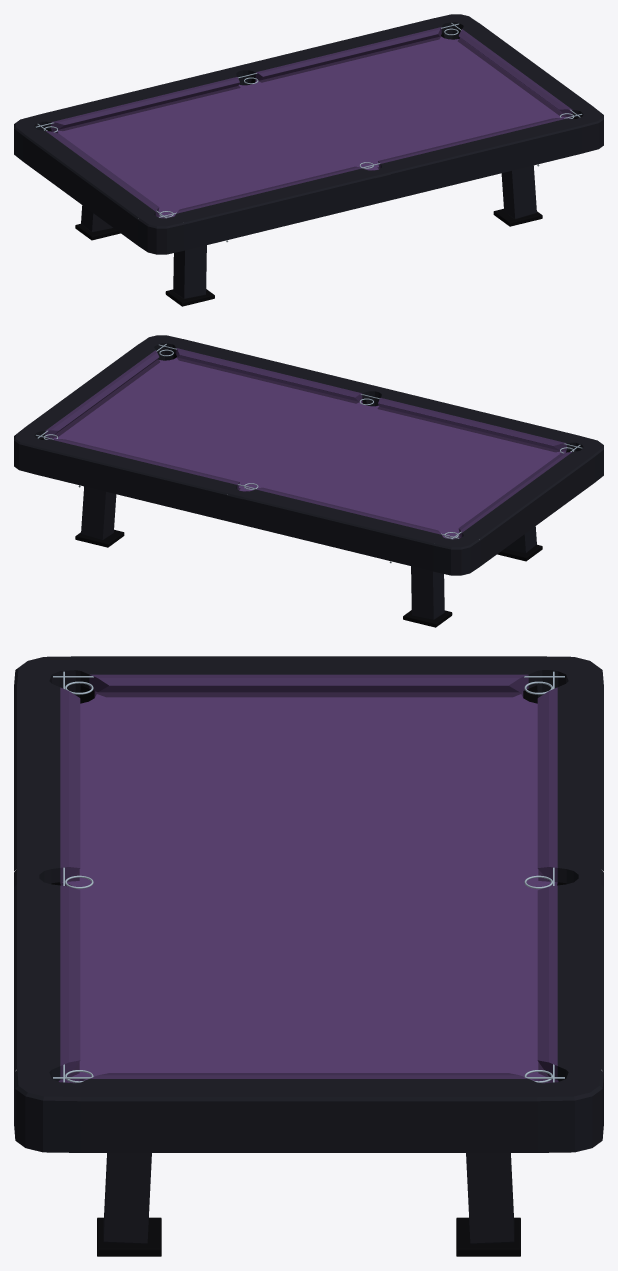
Rendered from table-eightball-10-chinese-violet.glb.
3 renders of one model, top to bottom at view 1: azimuth 30°, elevation 25°; view 2: azimuth 150°, elevation 25°; view 3: azimuth 270°, elevation 25°, orthographic. The views are drawn at different scales.
Parts seen in each view (by area): view 1: table-eightball-10-chinese-violet, break-builder-table-support, chinese-steel-cushion-details; view 2: table-eightball-10-chinese-violet, break-builder-table-support, chinese-steel-cushion-details; view 3: table-eightball-10-chinese-violet, break-builder-table-support, chinese-steel-cushion-details.
Boxes of the visible parts, box(x1,y1,x2,y2) form: table-eightball-10-chinese-violet: box(14, 14, 603, 254); break-builder-table-support: box(75, 165, 542, 306); chinese-steel-cushion-details: box(35, 23, 582, 218); table-eightball-10-chinese-violet: box(14, 335, 603, 575); break-builder-table-support: box(75, 486, 542, 627); chinese-steel-cushion-details: box(35, 344, 582, 539); table-eightball-10-chinese-violet: box(14, 656, 603, 1152); break-builder-table-support: box(97, 1153, 520, 1256); chinese-steel-cushion-details: box(53, 671, 564, 1082).
Bounding box in the file's own units: 2.87 × 0.6219 × 1.61.
